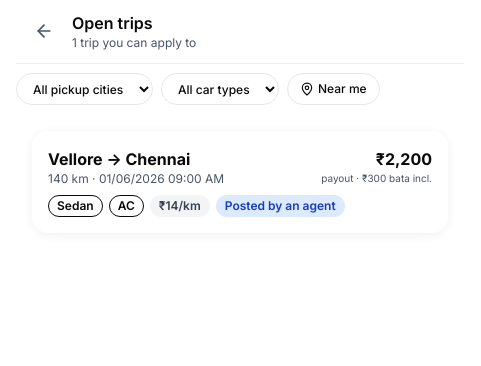
Test: TripFeedPage › "Clear filters" restores trips hidden by the car-type filter
Select "SUV" in the 2nd dropdown named "filter by car type" at (220, 89), box [161,73,279,105]
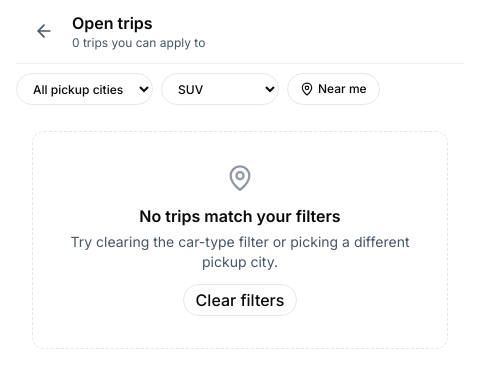
expect the text "No trips match your filters" is shown: met, box [139,206,341,226]
Click the button "Clear filters" at (240, 300), box [183,284,297,316]
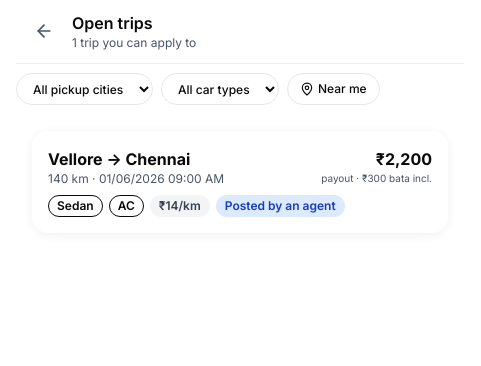
expect the text "Vellore → Chennai" is shown: met, box [48,149,190,169]
